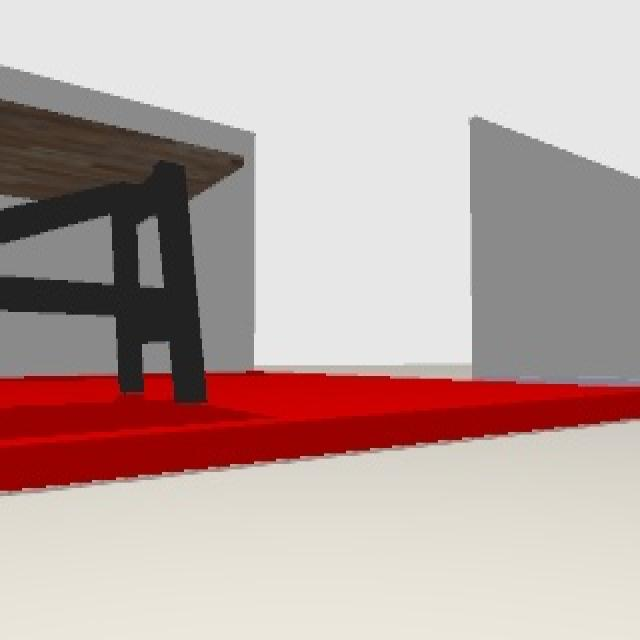dining: (1, 98, 238, 402)
